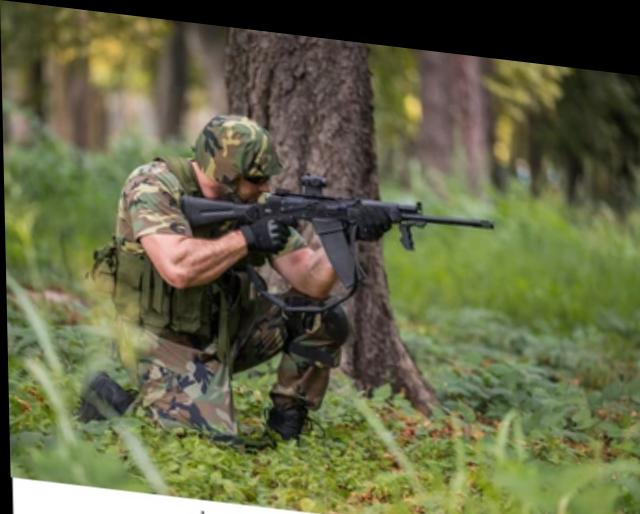other: (118, 117, 341, 456)
